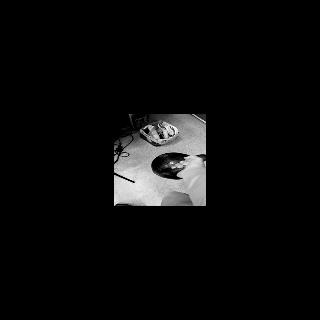kettlebell: (151, 152, 206, 179)
